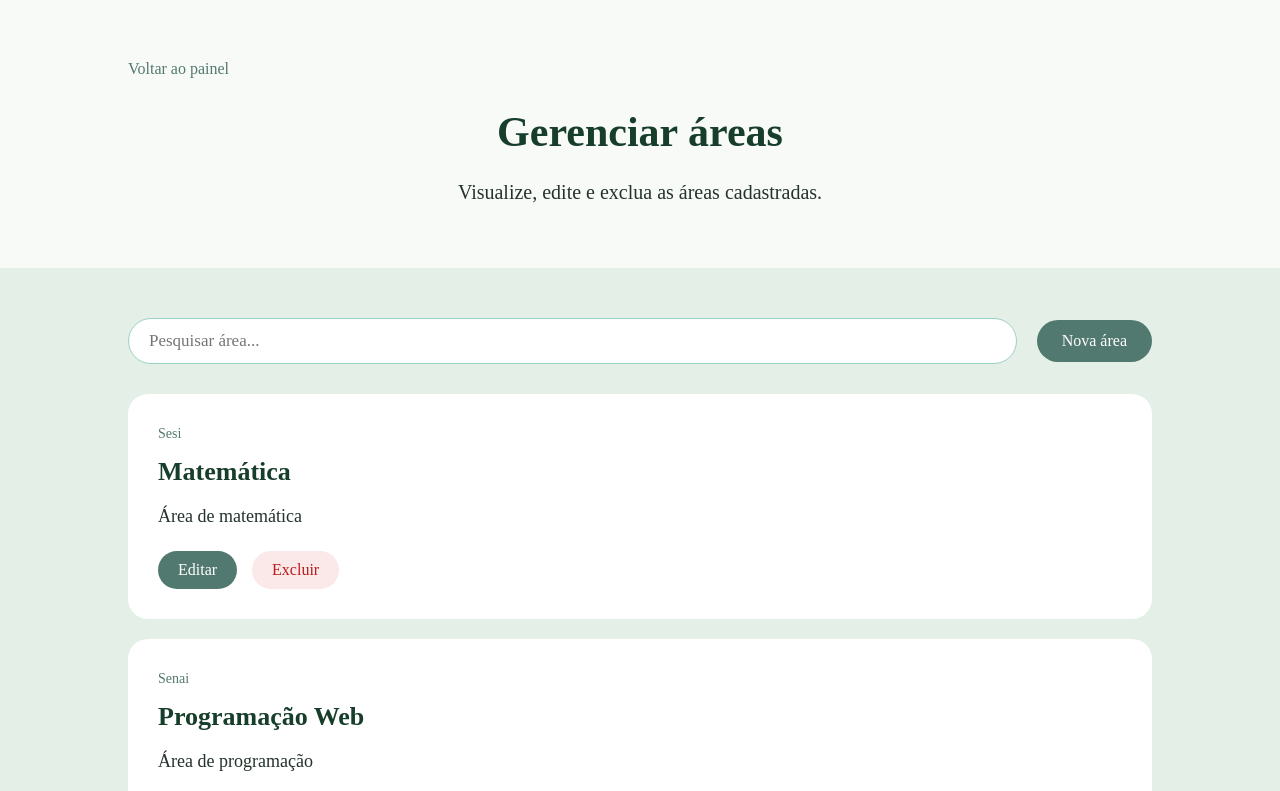
it: Página GerenciarAreas › Deve impedir a exclusão de área com registros vinculados
Click the button "Excluir" below "Área de matemática": (296, 570) [252,551,339,589]
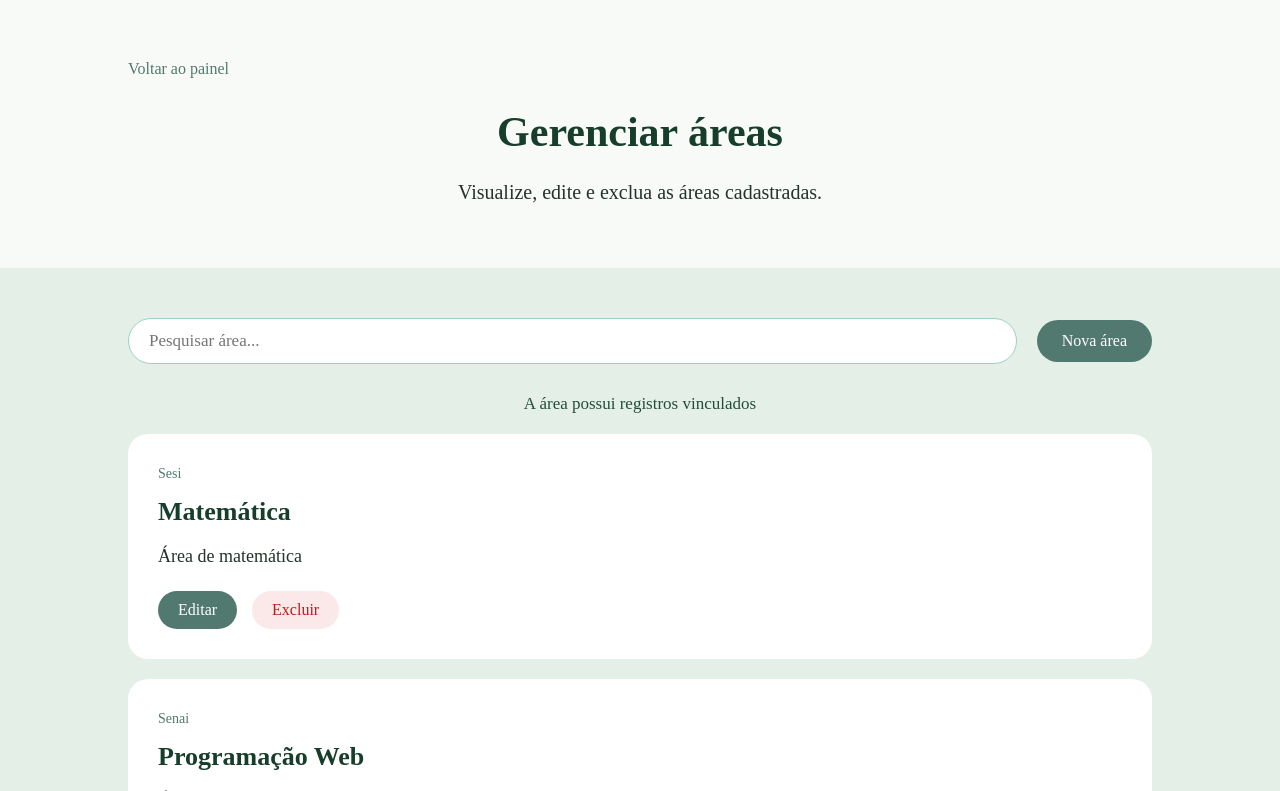
Check: the heading "Matemática" is shown, box [158,497,291,526]
Check: the text "A área possui registros vinculados" is shown, box [524,394,756,413]
